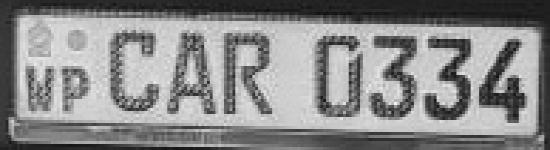0: (312, 30, 366, 126)
3: (422, 28, 475, 128), (368, 29, 423, 123)
4: (476, 31, 533, 129)
A: (164, 27, 220, 122)
C: (105, 24, 163, 115)
P: (58, 61, 93, 119)
R: (218, 28, 278, 125)
W: (24, 60, 58, 117)
